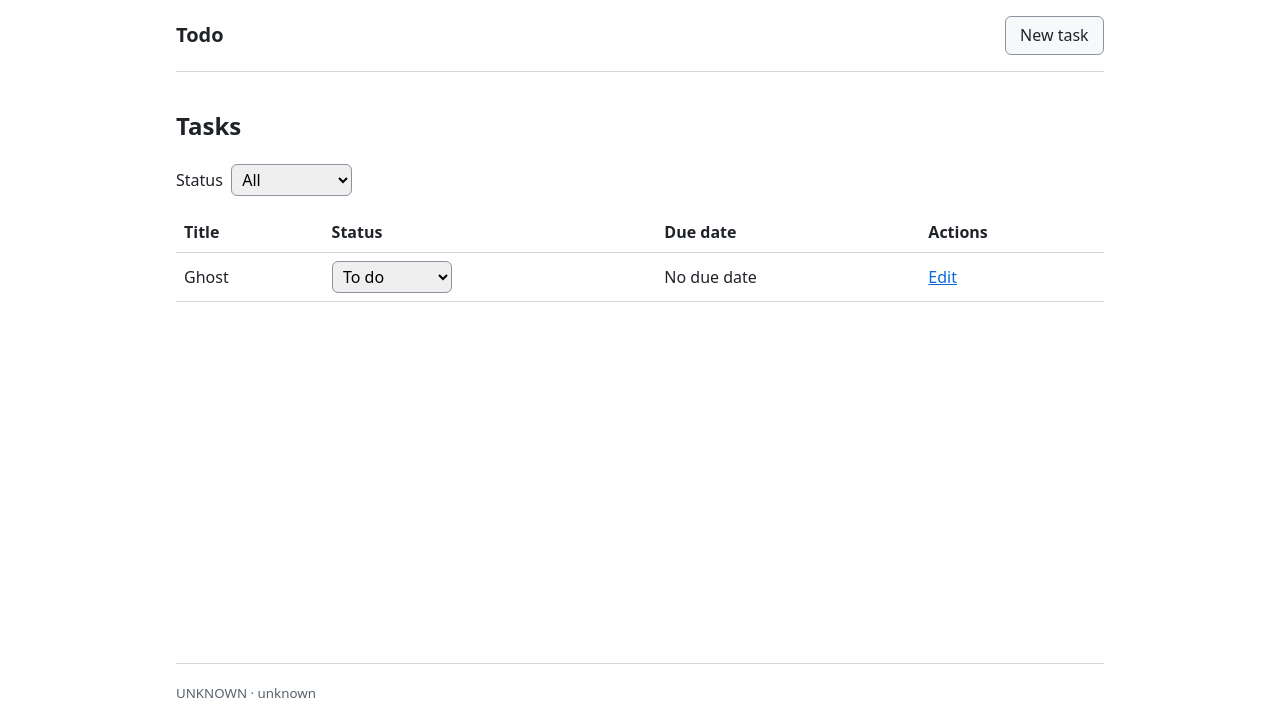
Test case: SCRUM-6 task list status › SCRUM-6-AC-11: a 404 (deleted elsewhere) shows "Task not found" and reloads the list
The image size is (1280, 720).
Select "Done" in the dropdown named "Status for Ghost" at [392, 277], box [332, 261, 452, 293]
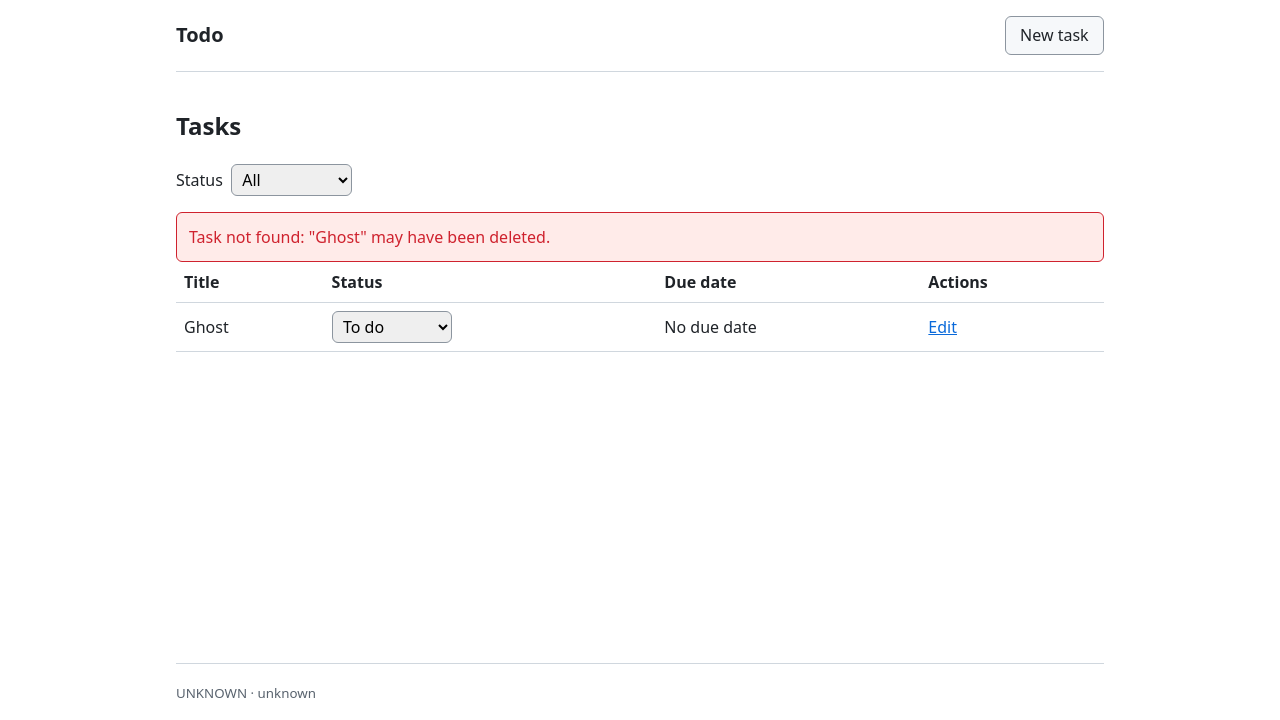
Result: the message reads "Task not found: \"Ghost\" may have been deleted." at [189, 226, 550, 248]
